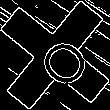O_NW: (22, 22, 88, 88)
